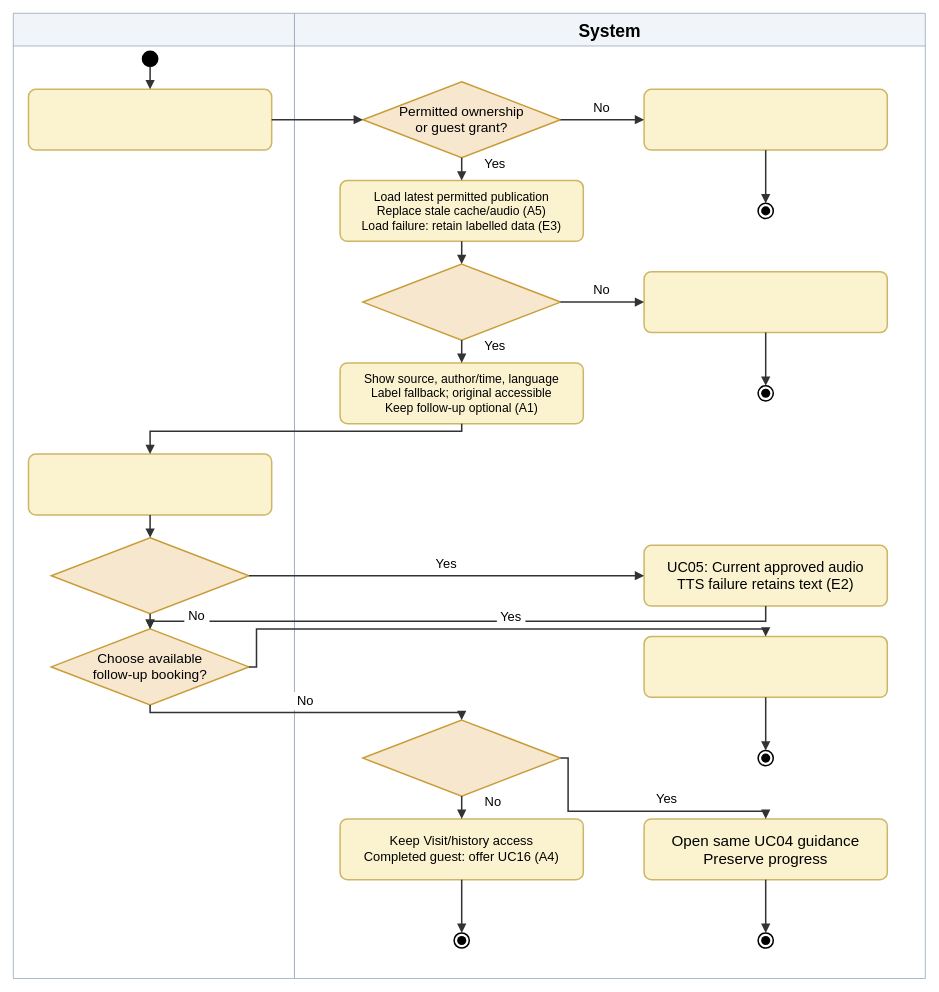
Image size: 939x992. Some labels were removed from this diagram. Each missing label, with the box of its shape:
Deny disclosure (E1) Offer verified access recovery: (643, 88, 888, 150)
External booking (A3) Source confirms appointment Unavailable: instructions (A6): (643, 635, 888, 698)
Journey unfinished?: (362, 719, 561, 796)
Listen / replay?: (50, 537, 249, 614)
Open Doctor information Visit / notification / history: (27, 88, 272, 150)
Patient: (13, 13, 294, 978)
Read diagnosis / explanation and care instructions separately: (27, 453, 272, 515)
Show Not yet published (A2) No Draft or generated explanation: (643, 271, 888, 333)
Summary Published?: (362, 263, 561, 340)
